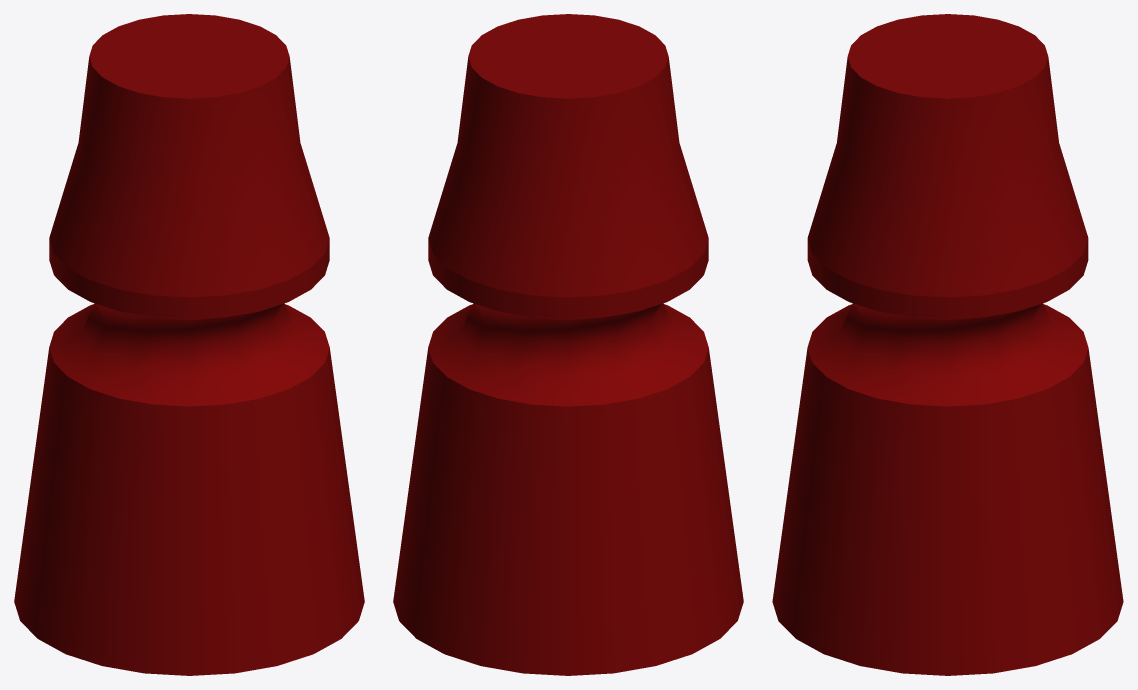
The model's file is PegPlasticT18.fbx.
3 views of the same model, side by side, from view 1: azimuth 30°, elevation 25°; view 2: azimuth 150°, elevation 25°; view 3: azimuth 270°, elevation 25° (orthographic).
Parts seen in each view (by area): view 1: PegPlasticT18; view 2: PegPlasticT18; view 3: PegPlasticT18.
Part boxes in pixels (left/top/right/bottom): PegPlasticT18: left=14, top=14, right=364, bottom=675; PegPlasticT18: left=393, top=14, right=743, bottom=675; PegPlasticT18: left=772, top=14, right=1123, bottom=675.
Size of the model in its own units: 1.79 by 3.08 by 1.79.
